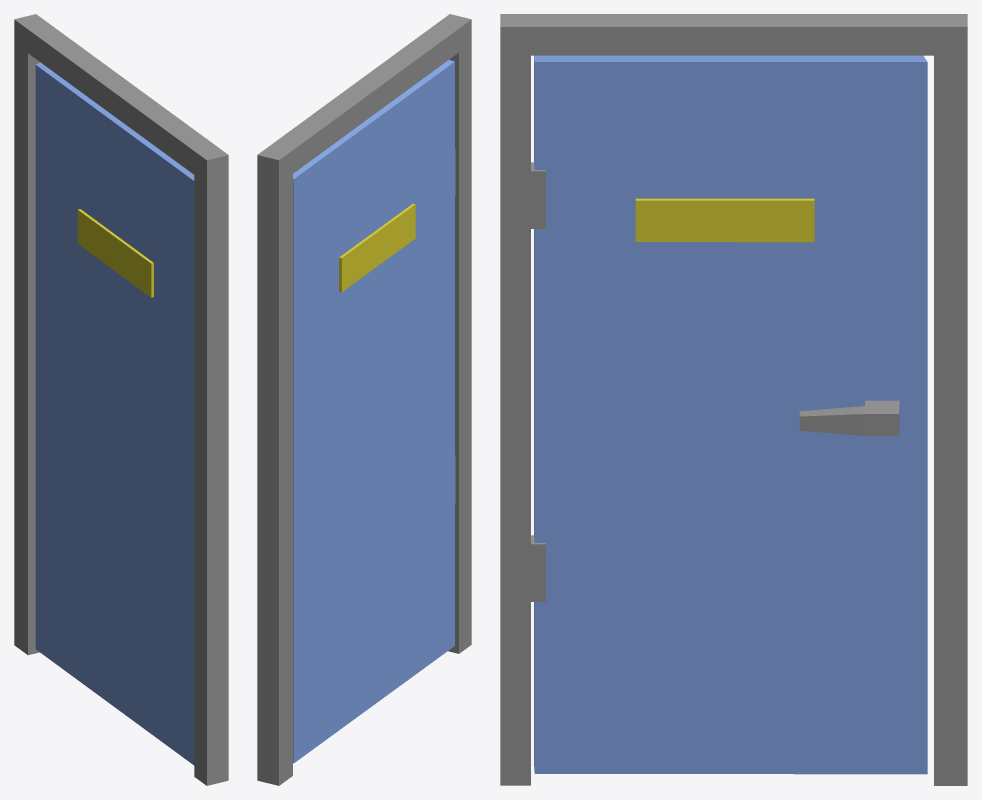
File: hospitalcloseddoor.fbx
3 renders of one model, left to right at view 1: azimuth 30°, elevation 25°; view 2: azimuth 150°, elevation 25°; view 3: azimuth 270°, elevation 25°, orthographic. The views are drawn at different scales.
Parts seen in each view (by area): view 1: door; view 2: door; view 3: door.
Part boxes in pixels (<box>): door: <box>14,14,228,785</box>; door: <box>257,14,471,785</box>; door: <box>500,14,967,785</box>.
Bounding box in the file's own units: 64.79 × 981 × 547.
